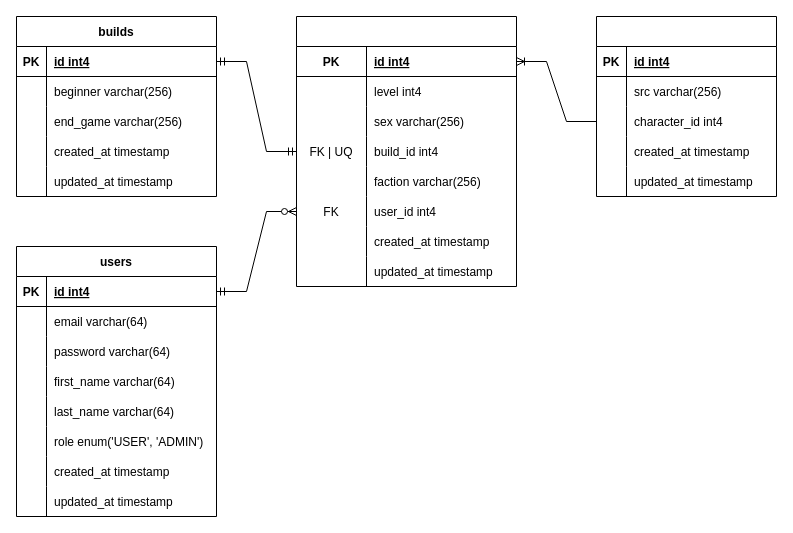
Some shapes in this 793 by 533 pixel diagram are drawn without their labels. The box of each missing label's shape, as (x1, y1, x2, y2) in pixels:
character: (296, 16, 516, 286)
inventory: (596, 16, 776, 196)
